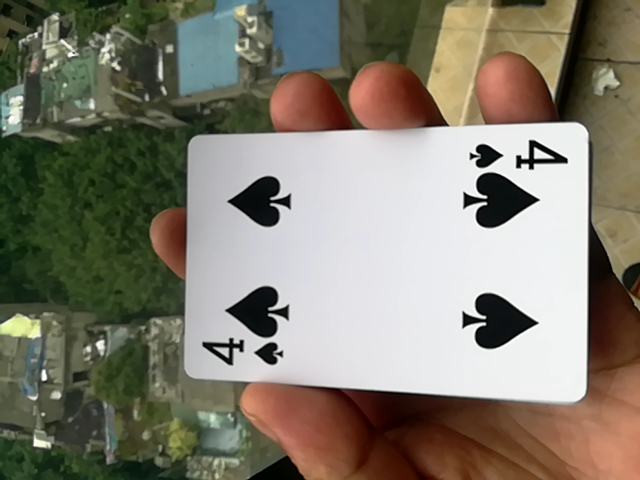ht 4: (166, 125, 584, 409)
